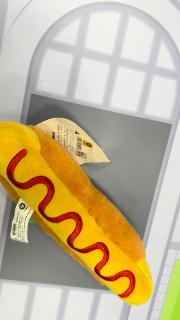hotdog: (0, 120, 154, 306)
